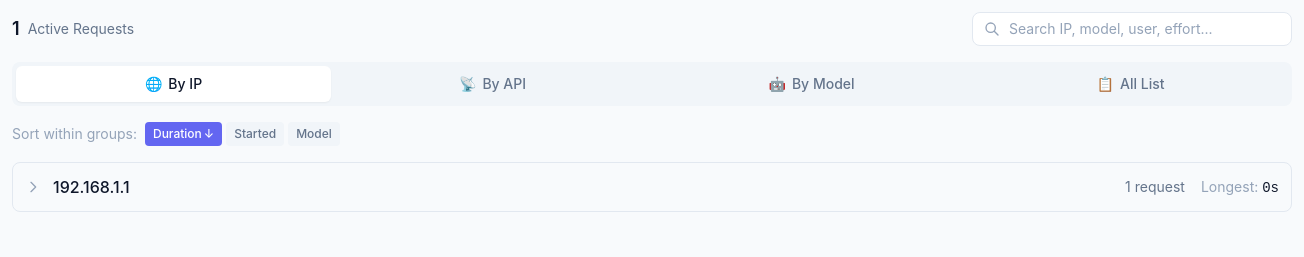
Test: LiveRequestsPanel - Request Rendering › shows provider name when provided in providerNames map
What coordinates should you click on to do the following:
click the text "All List"
I would click on:
 (1142, 84)
Its box is [1120, 74, 1164, 94].
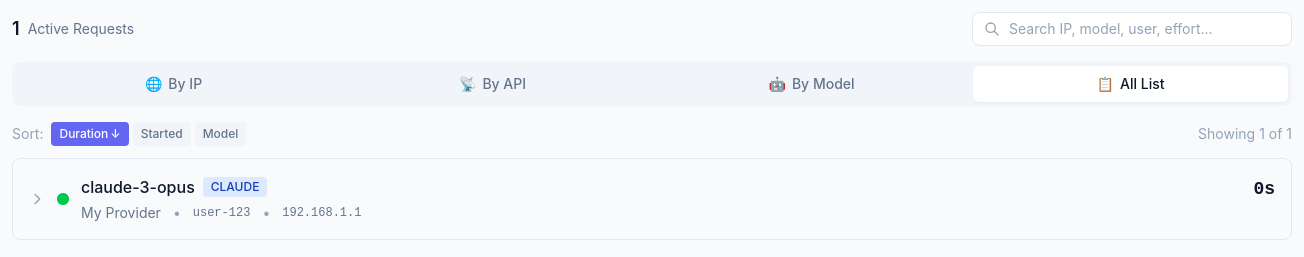
Now the text "My Provider" is shown, box [81, 203, 161, 223]
